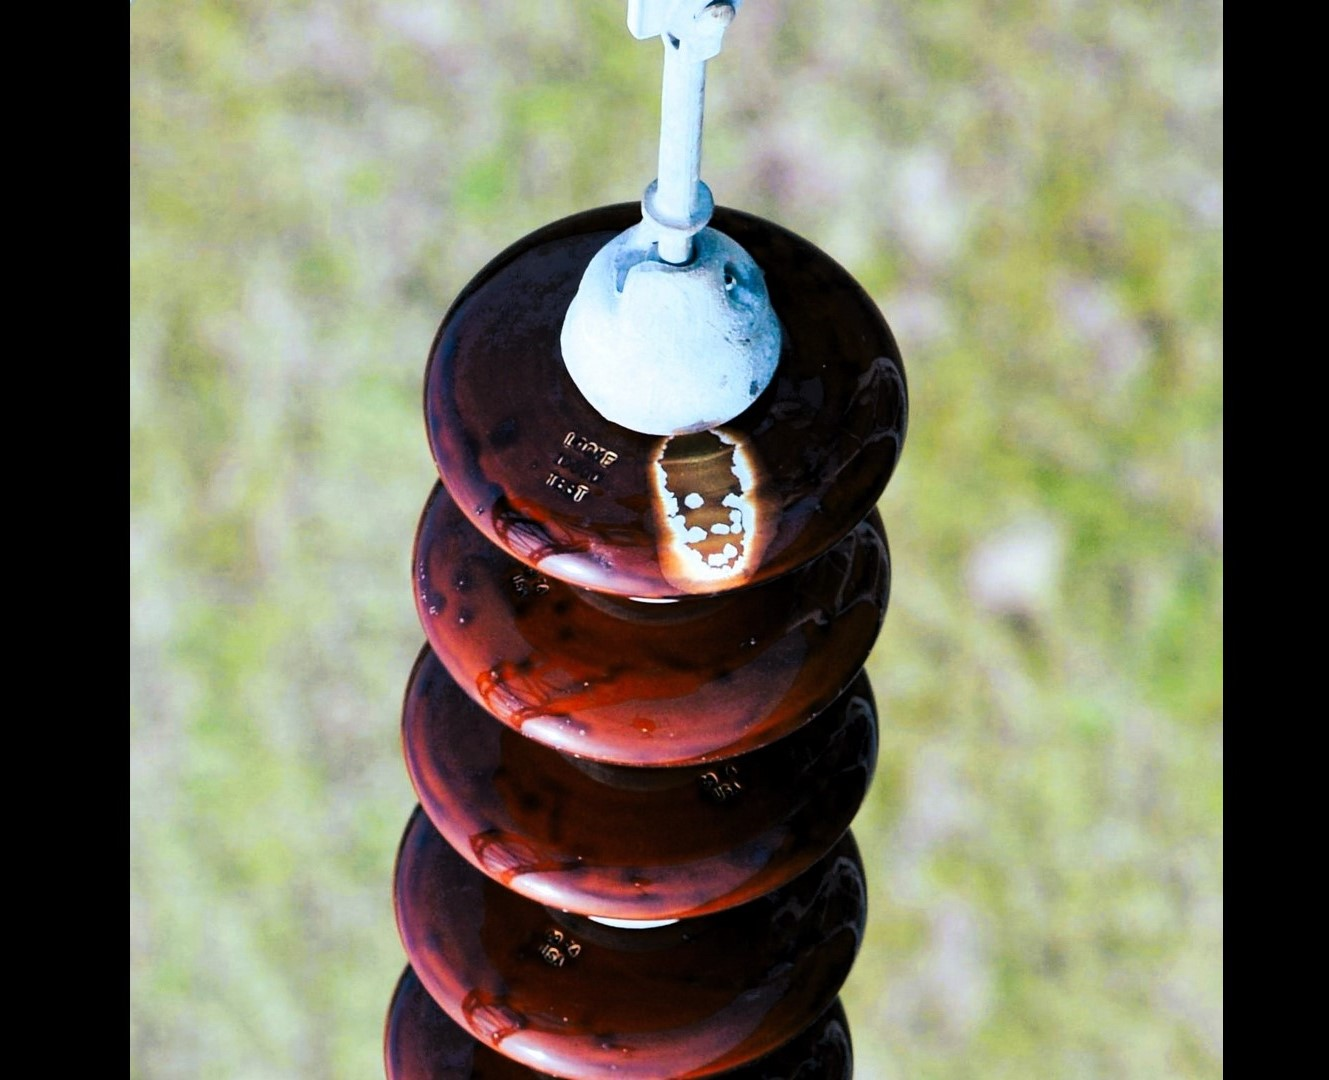Insulator flashover: (404, 190, 919, 608)
